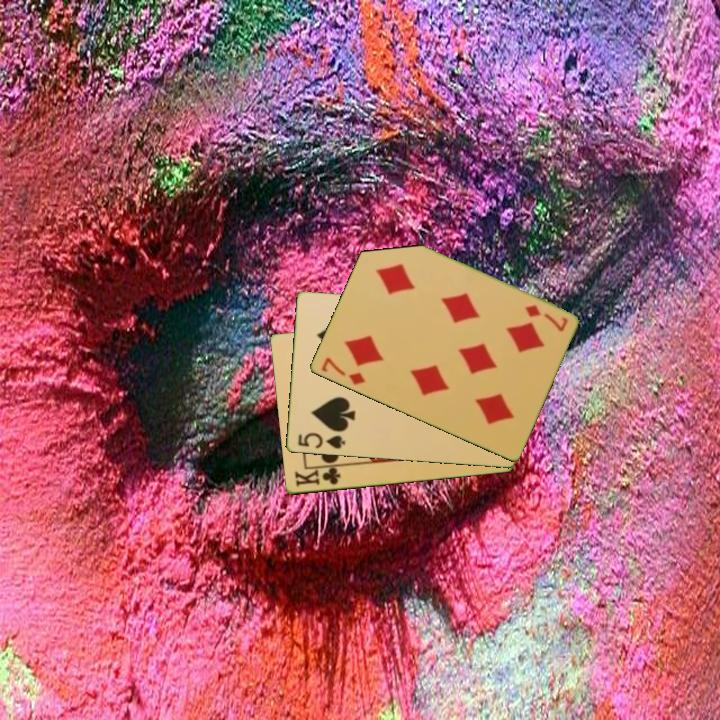5s: (294, 429, 348, 452)
7d: (317, 354, 368, 388), (521, 301, 570, 335)
Kc: (291, 463, 346, 489)
